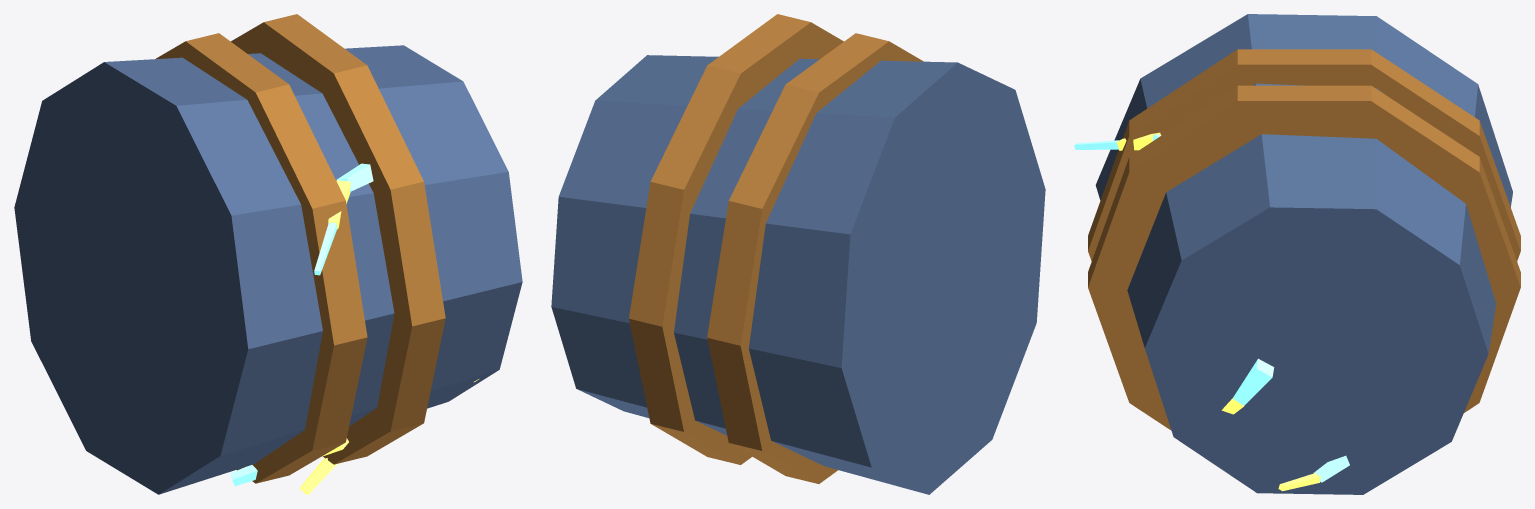
File: storm_titan_arm_l.glb
3 views of the same model, side by side, from view 1: azimuth 30°, elevation 25°; view 2: azimuth 150°, elevation 25°; view 3: azimuth 270°, elevation 25° (orthographic). The views are drawn at different scales.
Parts seen in each view (by area): view 1: storm_titan_arm_l; view 2: storm_titan_arm_l; view 3: storm_titan_arm_l.
Part boxes in pixels (left/top/right/bottom): storm_titan_arm_l: left=14, top=14, right=522, bottom=494; storm_titan_arm_l: left=551, top=14, right=1045, bottom=494; storm_titan_arm_l: left=1074, top=14, right=1520, bottom=494.
Size of the model in its own units: 0.3336 by 0.3604 by 0.3632.
